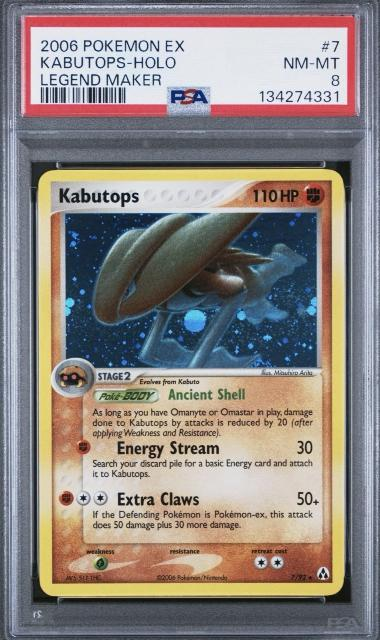Card: (34, 167, 349, 600)
Name: (53, 183, 142, 210)
